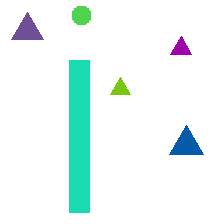circle: (72, 6, 90, 24)
rectangle: (69, 60, 89, 212)
triangle: (169, 125, 203, 154), (11, 12, 43, 39), (170, 36, 191, 54), (110, 77, 130, 94)
